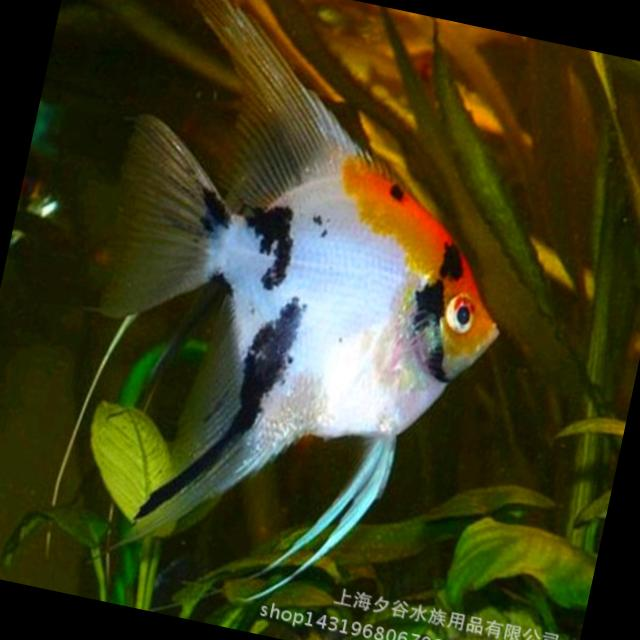AngelFish: (58, 0, 559, 609)
